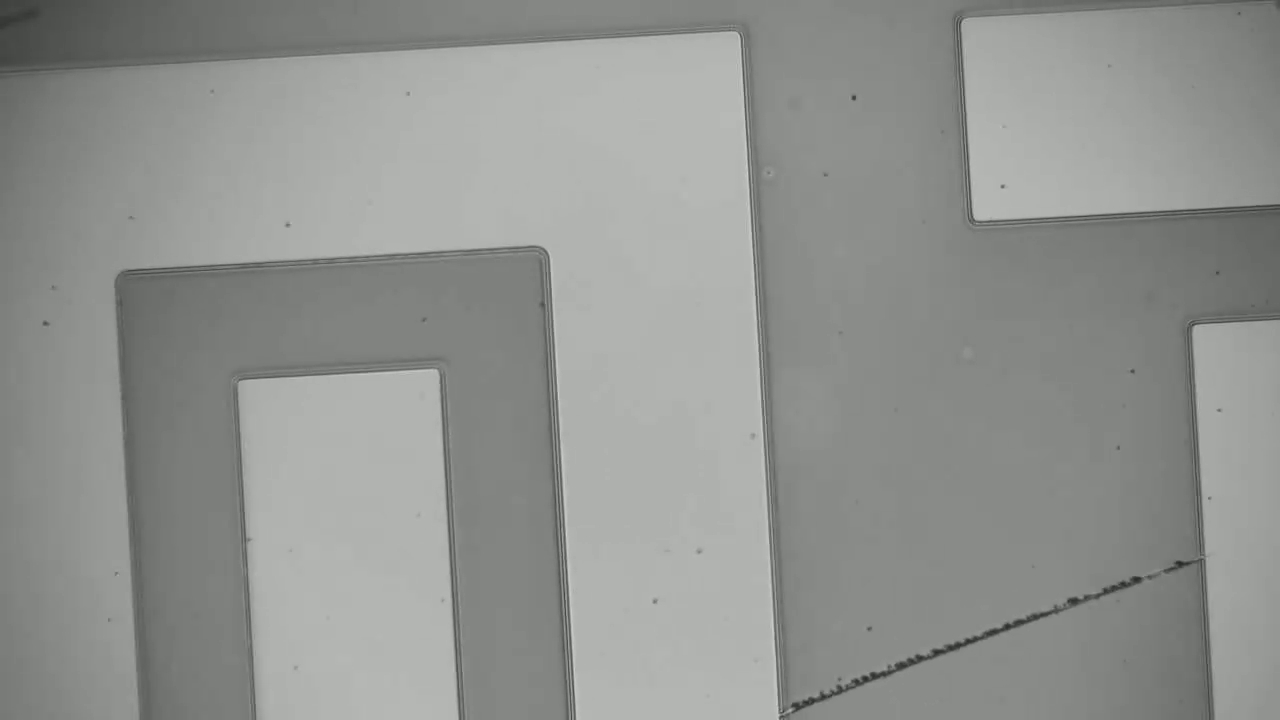scratch: (802, 556, 1206, 716)
